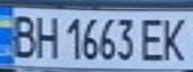1: (60, 14, 84, 61)
3: (115, 15, 139, 62)
6: (78, 14, 103, 61), (96, 16, 121, 62)
B: (6, 11, 39, 60)
E: (136, 15, 169, 62)
H: (30, 11, 60, 60)
K: (157, 14, 193, 63)
